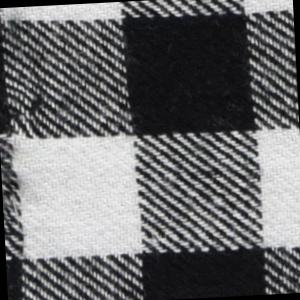Damage: (1, 87, 47, 144), (1, 152, 34, 231)
